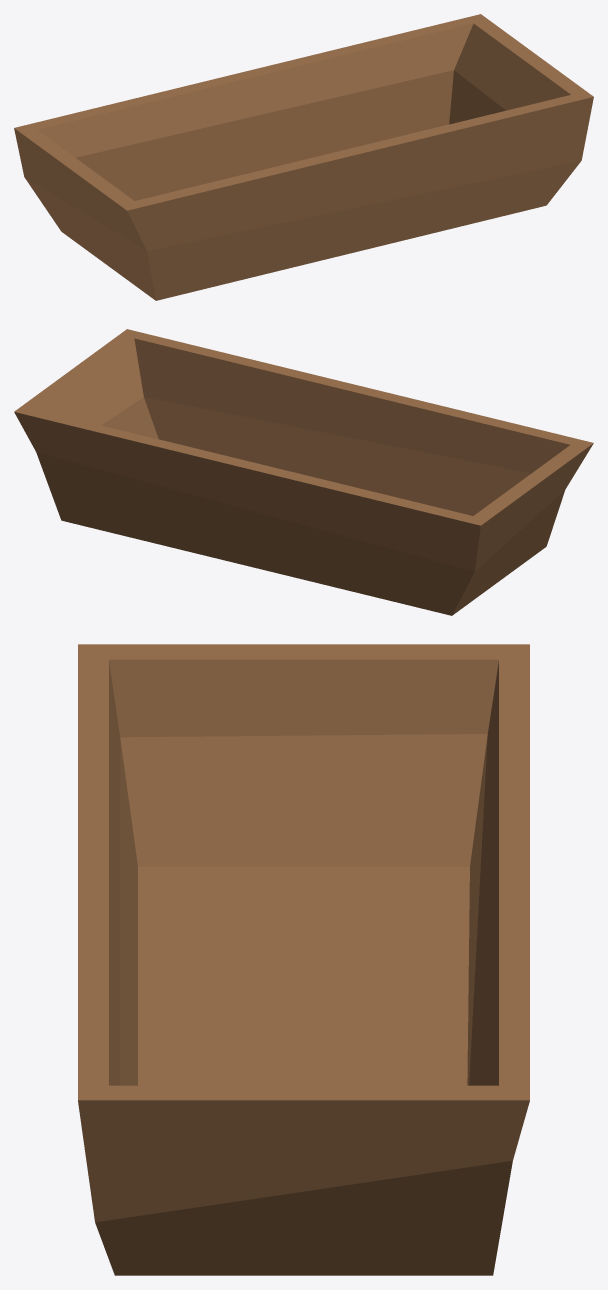
Rendered from Feedmanager_1.fbx.
3 views of the same model, one above another, from view 1: azimuth 30°, elevation 25°; view 2: azimuth 150°, elevation 25°; view 3: azimuth 270°, elevation 25° (orthographic). The views are drawn at different scales.
Visible parts, largest first — view 1: Feedmanager_mesh; view 2: Feedmanager_mesh; view 3: Feedmanager_mesh.
Boxes of the visible parts, box(x1,y1,x2,y2) form: Feedmanager_mesh: box(14, 14, 593, 300); Feedmanager_mesh: box(14, 329, 593, 615); Feedmanager_mesh: box(78, 644, 529, 1275).
Bounding box in the file's own units: 244 × 53.09 × 102.
